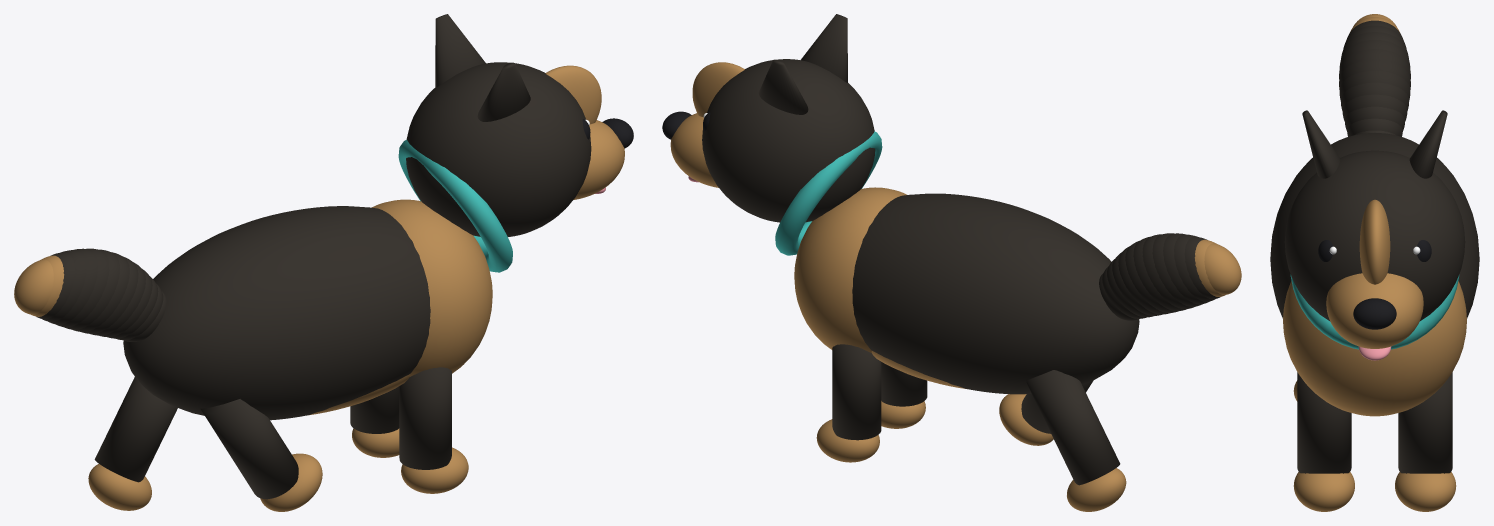
Rendered from gsd.glb.
3 views of the same model, side by side, from view 1: azimuth 30°, elevation 25°; view 2: azimuth 150°, elevation 25°; view 3: azimuth 270°, elevation 25° (orthographic). The views are drawn at different scales.
Visible parts, largest first — view 1: Body, Head, Chest, Leg3, Leg1, Leg2, Collar, Muzzle, Ear1, Paw2, Ear-1, Leg0 (+13 smaller); view 2: Body, Head, Chest, Leg2, Leg0, Collar, Muzzle, Ear-1, Paw2, Ear1, Leg1, Paw0 (+12 smaller); view 3: Head, Chest, Body, Muzzle, Leg0, Leg1, Blaze, Paw0, Paw1, Collar, Ear1, Ear-1 (+15 smaller).
Part boxes in pixels (left/top/right/bottom): Body: left=123, top=206, right=430, bottom=420; Head: left=406, top=62, right=591, bottom=236; Chest: left=372, top=199, right=492, bottom=376; Leg3: left=200, top=399, right=298, bottom=499; Leg1: left=399, top=367, right=451, bottom=469; Leg2: left=94, top=377, right=177, bottom=482; Collar: left=398, top=139, right=512, bottom=272; Muzzle: left=573, top=120, right=624, bottom=199; Ear1: left=435, top=14, right=485, bottom=87; Paw2: left=88, top=464, right=151, bottom=510; Ear-1: left=477, top=62, right=530, bottom=121; Leg0: left=350, top=386, right=399, bottom=433; Body: left=852, top=193, right=1139, bottom=394; Head: left=702, top=59, right=875, bottom=222; Chest: left=794, top=187, right=906, bottom=352; Leg2: left=1026, top=370, right=1120, bottom=485; Leg0: left=832, top=344, right=881, bottom=440; Collar: left=775, top=131, right=882, bottom=255; Muzzle: left=670, top=113, right=718, bottom=187; Ear-1: left=800, top=14, right=847, bottom=82; Paw2: left=1067, top=468, right=1126, bottom=511; Ear1: left=758, top=59, right=808, bottom=114; Leg1: left=881, top=362, right=927, bottom=406; Paw0: left=816, top=419, right=879, bottom=462; Head: left=1284, top=150, right=1465, bottom=321; Chest: left=1283, top=281, right=1466, bottom=416; Body: left=1270, top=133, right=1479, bottom=318; Muzzle: left=1326, top=273, right=1423, bottom=348; Leg0: left=1398, top=372, right=1452, bottom=473; Leg1: left=1297, top=372, right=1351, bottom=473; Blaze: left=1359, top=199, right=1390, bottom=284; Paw0: left=1395, top=472, right=1456, bottom=511; Paw1: left=1293, top=472, right=1354, bottom=511; Collar: left=1290, top=274, right=1459, bottom=349; Ear1: left=1409, top=110, right=1447, bottom=178; Ear-1: left=1302, top=110, right=1340, bottom=178.
Bounding box in the file's own units: 2.02 × 1.31 × 0.58.
